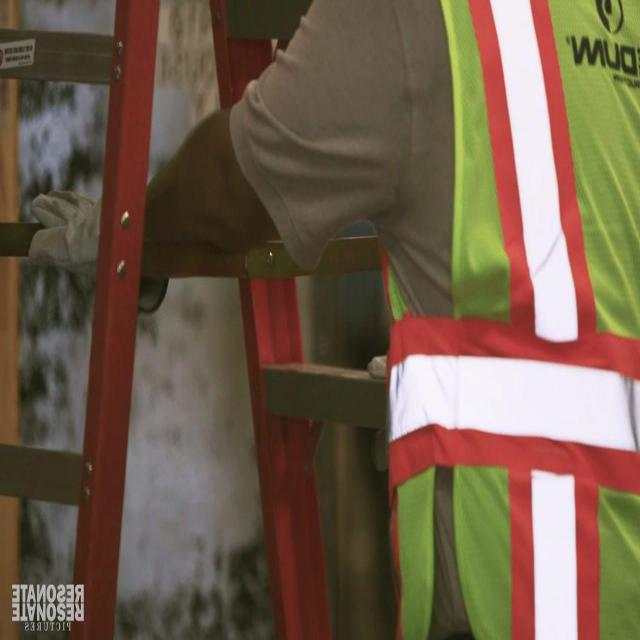Reflective-Jacket: (357, 0, 640, 634), (393, 426, 635, 637)
